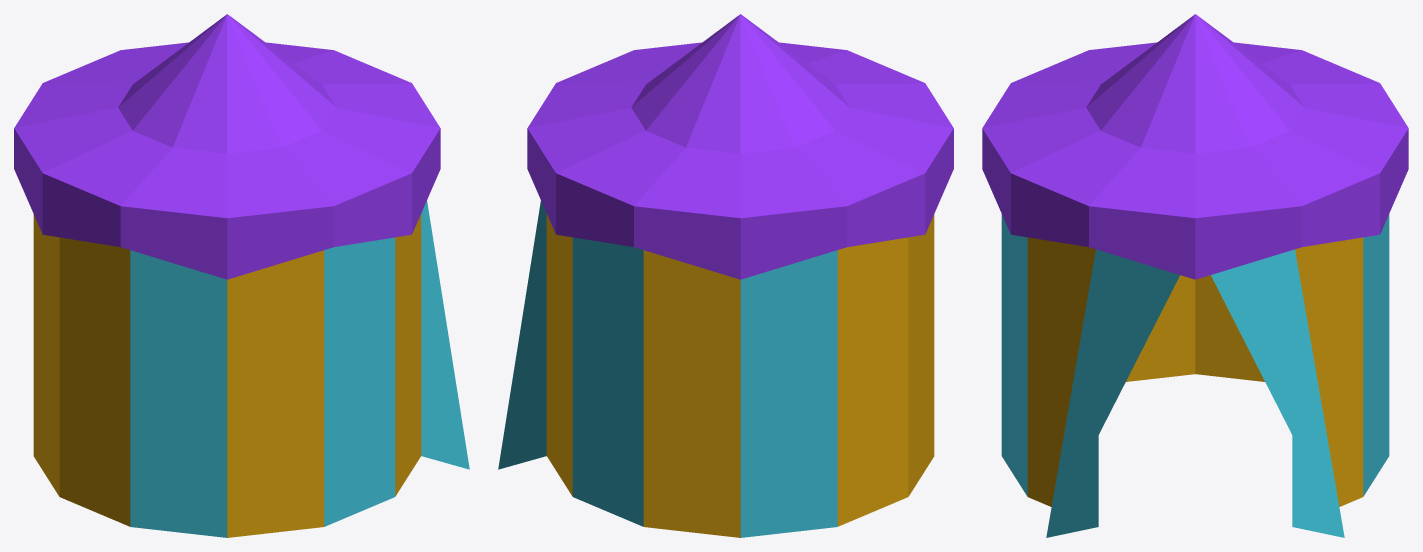
File: small circus tent.fbx
3 renders of one model, left to right at view 1: azimuth 30°, elevation 25°; view 2: azimuth 150°, elevation 25°; view 3: azimuth 270°, elevation 25°, orthographic.
Visible parts, largest first — view 1: tent base, tent roof; view 2: tent base, tent roof; view 3: tent roof, tent base.
Part boxes in pixels (box(x1,y1,x2,y2)): tent base: box(33, 201, 469, 537); tent roof: box(14, 14, 440, 279); tent base: box(498, 201, 934, 537); tent roof: box(527, 14, 953, 279); tent roof: box(982, 14, 1408, 279); tent base: box(1001, 214, 1389, 537).
Size of the model in its own units: 660 by 755 by 660.
